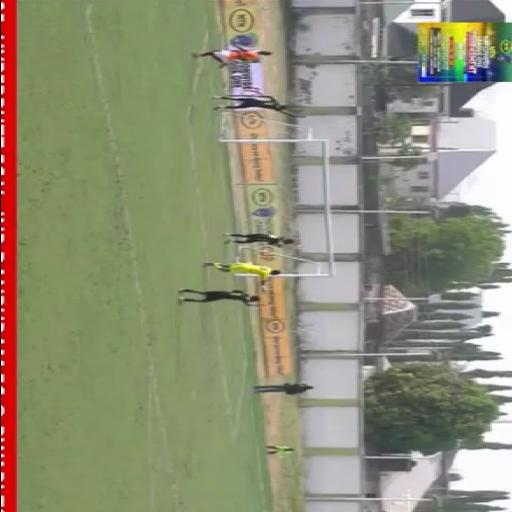keeper2: (185, 258, 295, 280)
team1: (188, 37, 284, 76)
team2: (158, 286, 262, 312), (212, 90, 300, 116), (214, 226, 304, 250)
